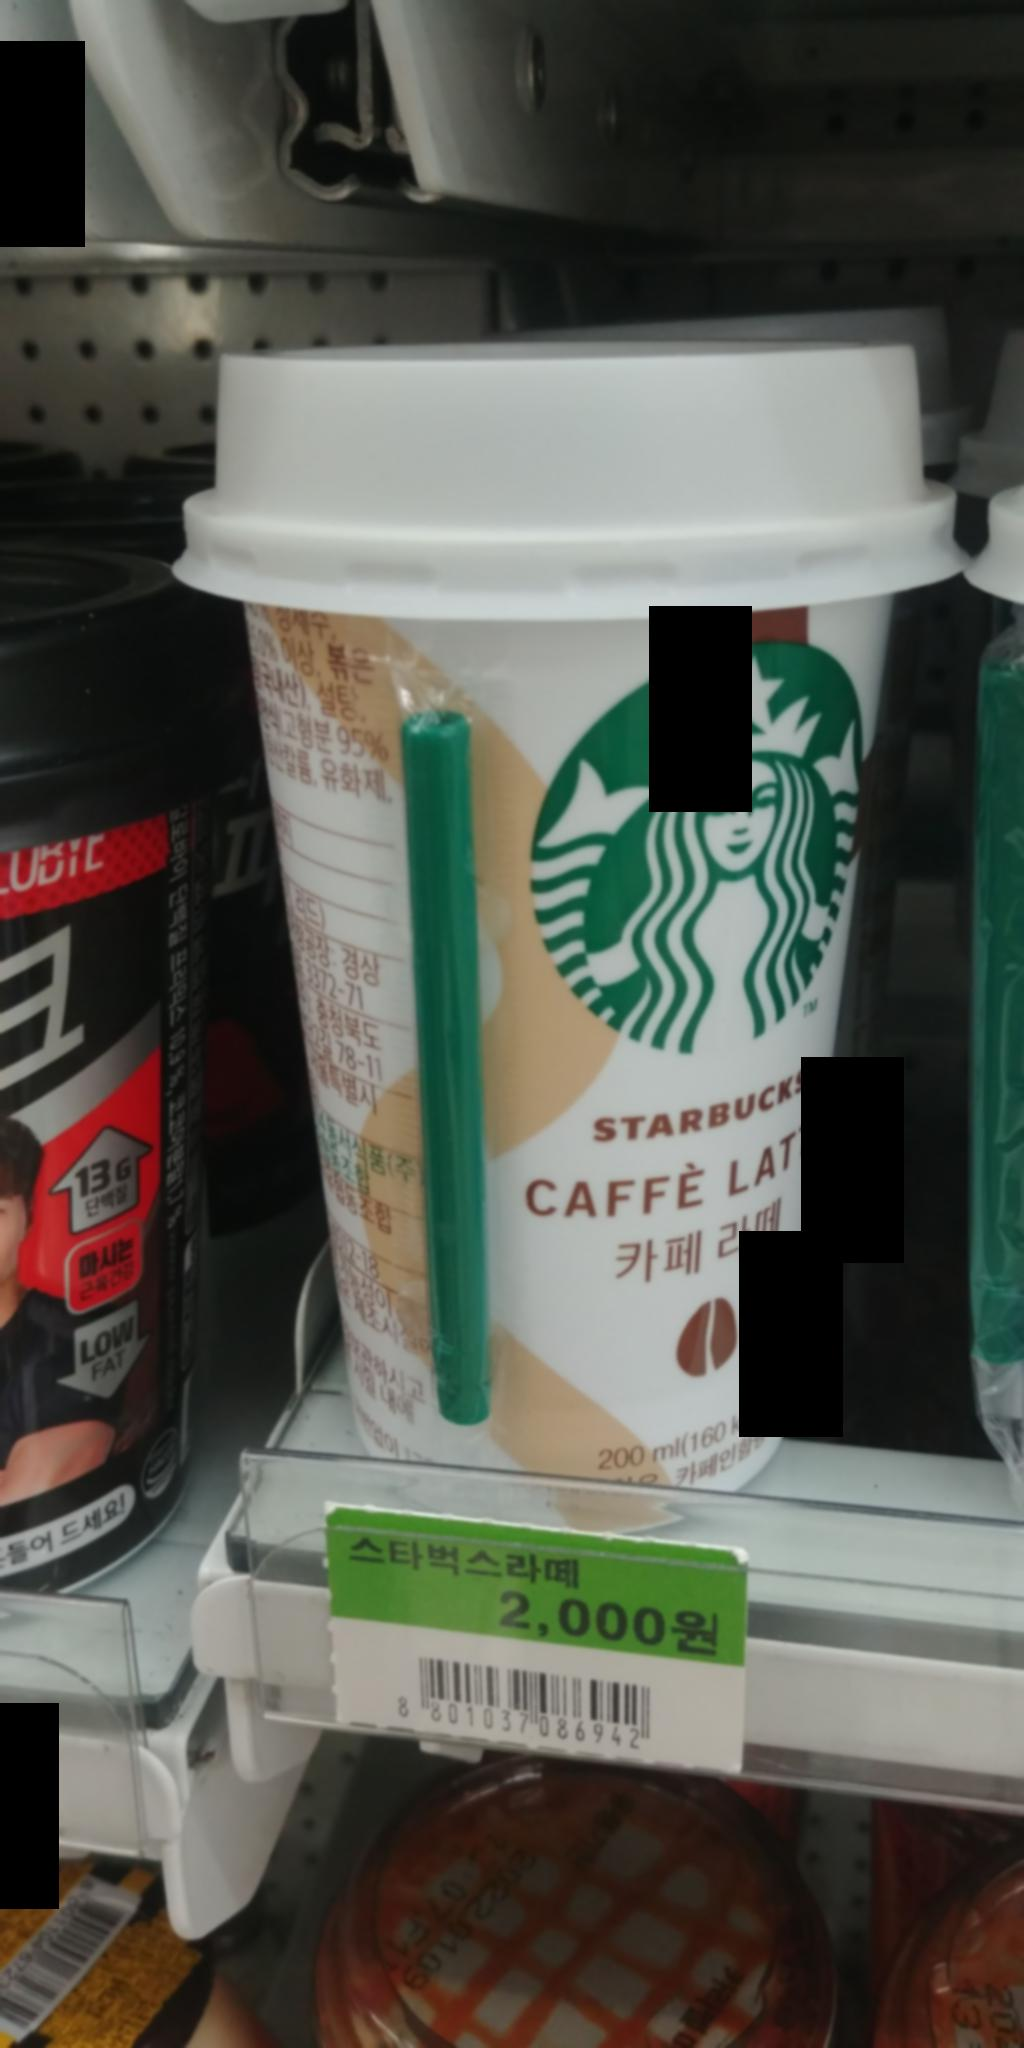starbucks_cafelatte: (180, 327, 951, 1512)
